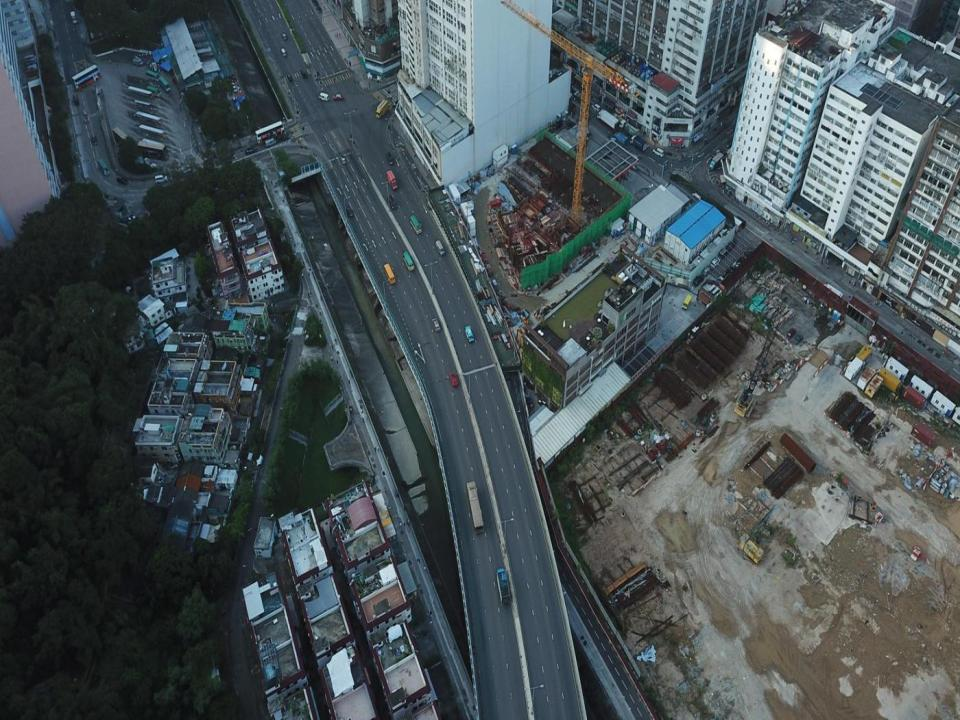bus: (466, 481, 484, 534), (72, 64, 101, 92), (255, 121, 285, 144), (137, 142, 168, 159), (112, 126, 129, 147), (382, 262, 396, 284), (402, 250, 415, 272), (97, 159, 110, 176), (409, 216, 421, 234), (158, 77, 171, 92), (146, 70, 160, 82), (682, 295, 691, 310), (148, 87, 161, 97)
car: (449, 372, 458, 387), (793, 334, 802, 346), (653, 147, 663, 157), (332, 93, 345, 100), (712, 256, 719, 268), (246, 147, 256, 155), (694, 275, 704, 283), (786, 328, 794, 338), (91, 134, 97, 146), (703, 266, 711, 275), (339, 156, 346, 165), (347, 207, 353, 216), (316, 6, 322, 14), (288, 74, 293, 82), (282, 32, 286, 41), (312, 0, 318, 6)
truck: (496, 568, 512, 606), (596, 109, 620, 134), (627, 134, 649, 149), (619, 120, 639, 136), (710, 152, 725, 171), (376, 99, 389, 118), (386, 170, 398, 190)
van: (435, 240, 445, 255), (466, 326, 474, 344), (615, 130, 627, 142), (155, 174, 169, 182), (388, 196, 396, 210), (433, 318, 441, 332), (265, 138, 276, 148), (319, 90, 328, 102), (134, 56, 144, 66), (116, 176, 127, 185), (386, 152, 394, 164), (69, 10, 76, 23), (726, 241, 735, 249), (713, 149, 720, 159), (281, 48, 287, 58), (591, 103, 599, 110), (720, 249, 727, 257), (300, 70, 306, 78), (75, 96, 79, 106)
